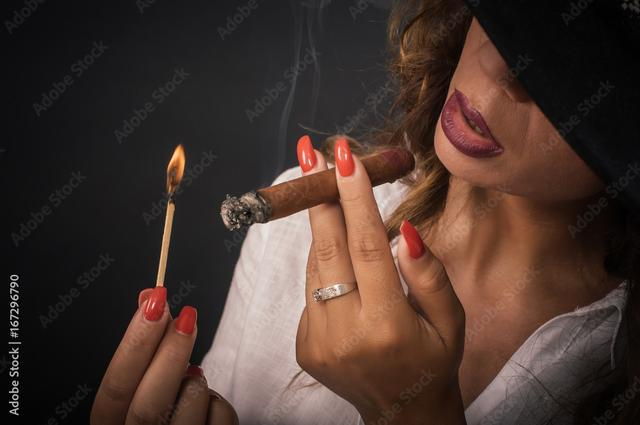Cigar: (219, 143, 416, 232)
